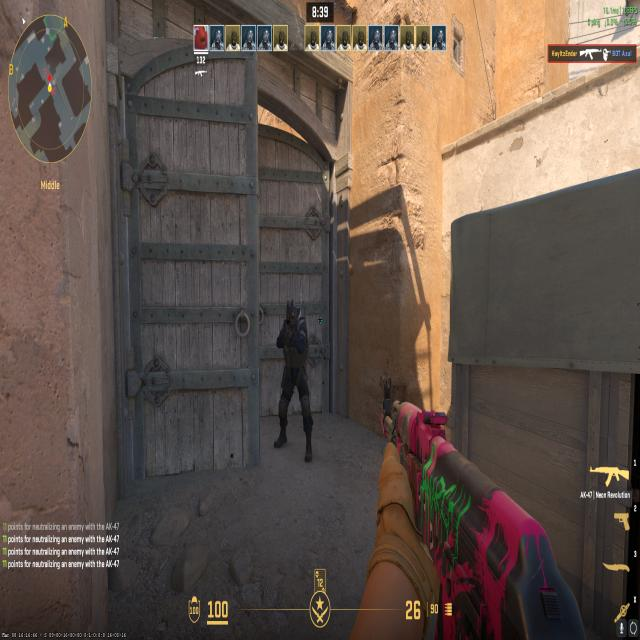ct: (268, 291, 320, 471)
